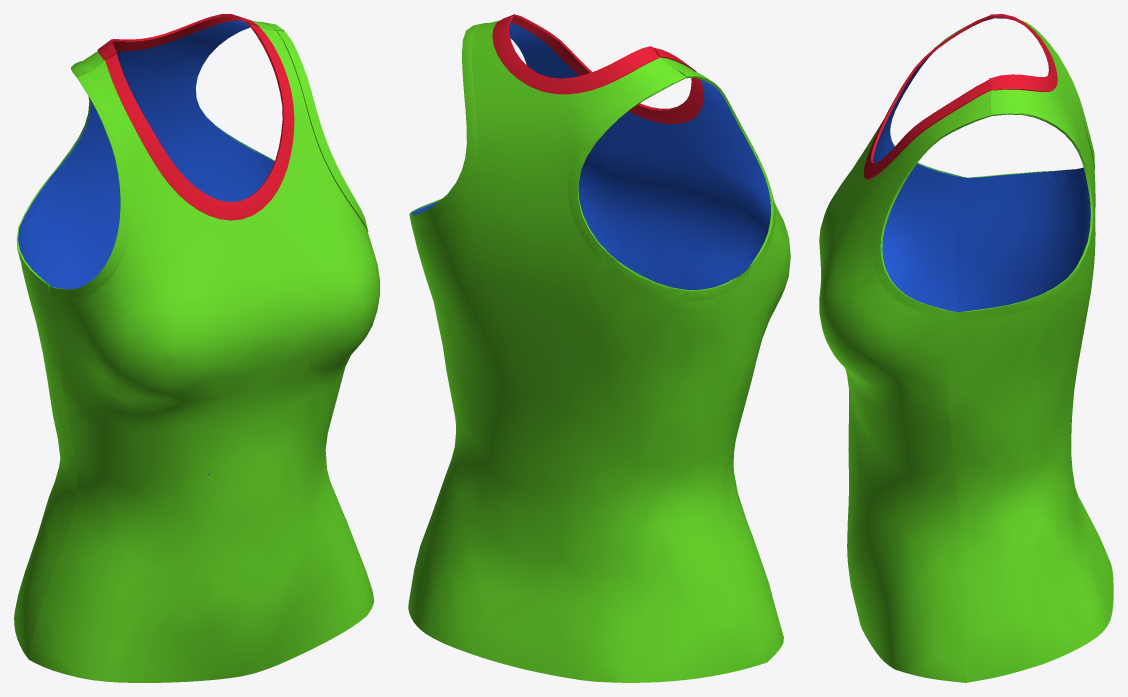
The model's file is femaleMode.glb.
The picture shows the model from 3 angles, left to right: view 1: azimuth 30°, elevation 25°; view 2: azimuth 150°, elevation 25°; view 3: azimuth 270°, elevation 25°; orthographic projection. The views are drawn at different scales.
Parts seen in each view (by area): view 1: model.001; view 2: model.001; view 3: model.001.
Part boxes in pixels (<box>): model.001: <box>14,14,379,682</box>; model.001: <box>408,14,790,682</box>; model.001: <box>819,14,1113,682</box>.
Size of the model in its own units: 0.3181 by 0.5447 by 0.2535.
